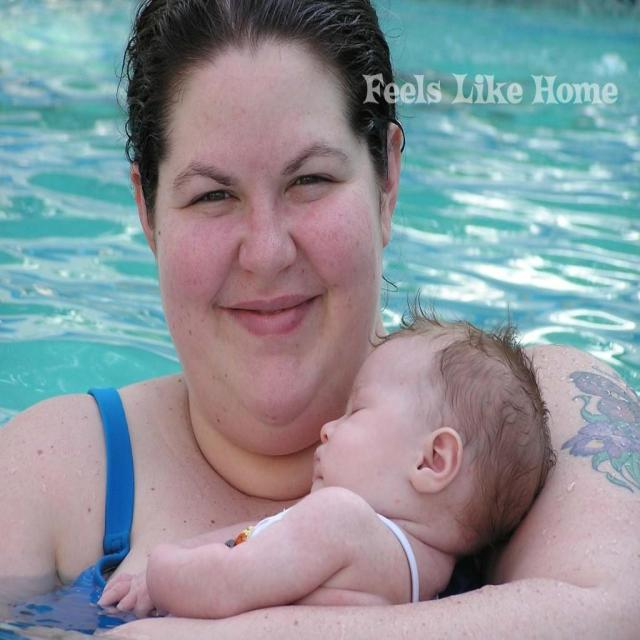Face: (144, 26, 372, 427), (317, 324, 438, 517)
